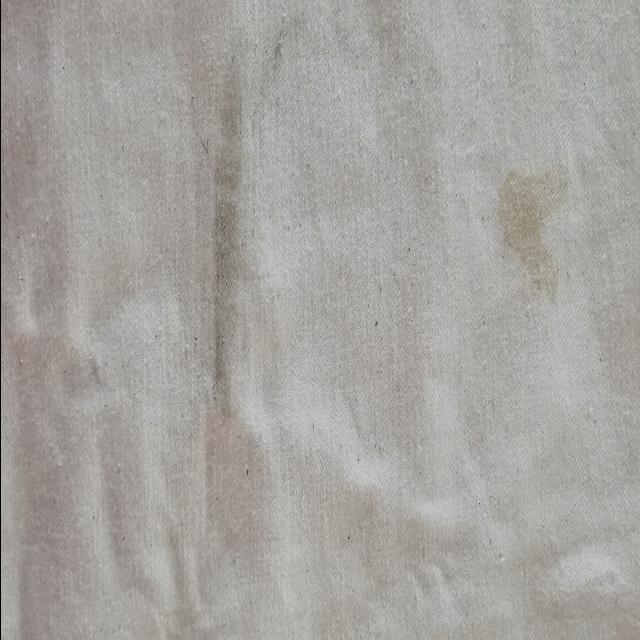taaaches: (193, 54, 248, 460), (483, 143, 576, 323)
